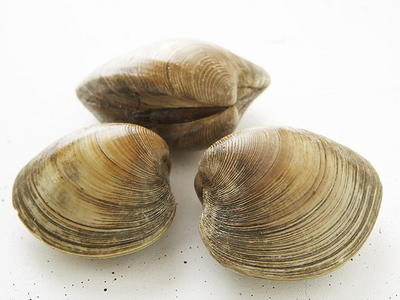cockle: (193, 125, 388, 286), (12, 120, 181, 261), (71, 36, 272, 152)
